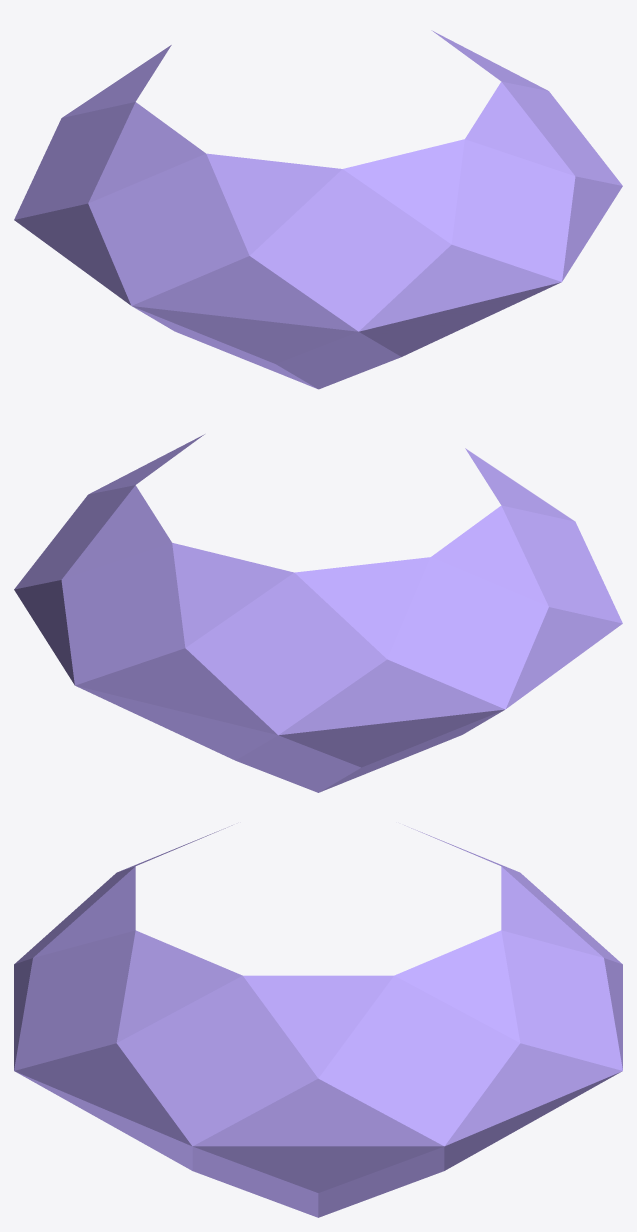
The model's file is rub.gltf.
3 views of the same model, one above another, from view 1: azimuth 30°, elevation 25°; view 2: azimuth 150°, elevation 25°; view 3: azimuth 270°, elevation 25° (orthographic). The views are drawn at different scales.
Visible parts, largest first — view 1: Ruby; view 2: Ruby; view 3: Ruby.
Part boxes in pixels (left/top/right/bottom): Ruby: left=14, top=30, right=622, bottom=389; Ruby: left=14, top=434, right=622, bottom=792; Ruby: left=14, top=825, right=622, bottom=1217.
Size of the model in its own units: 1.85 by 1.07 by 1.85.
